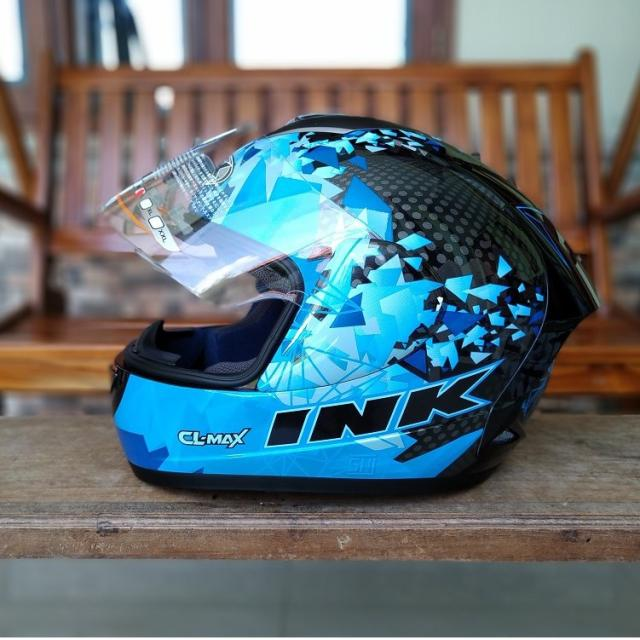Helm: (96, 105, 598, 503)
